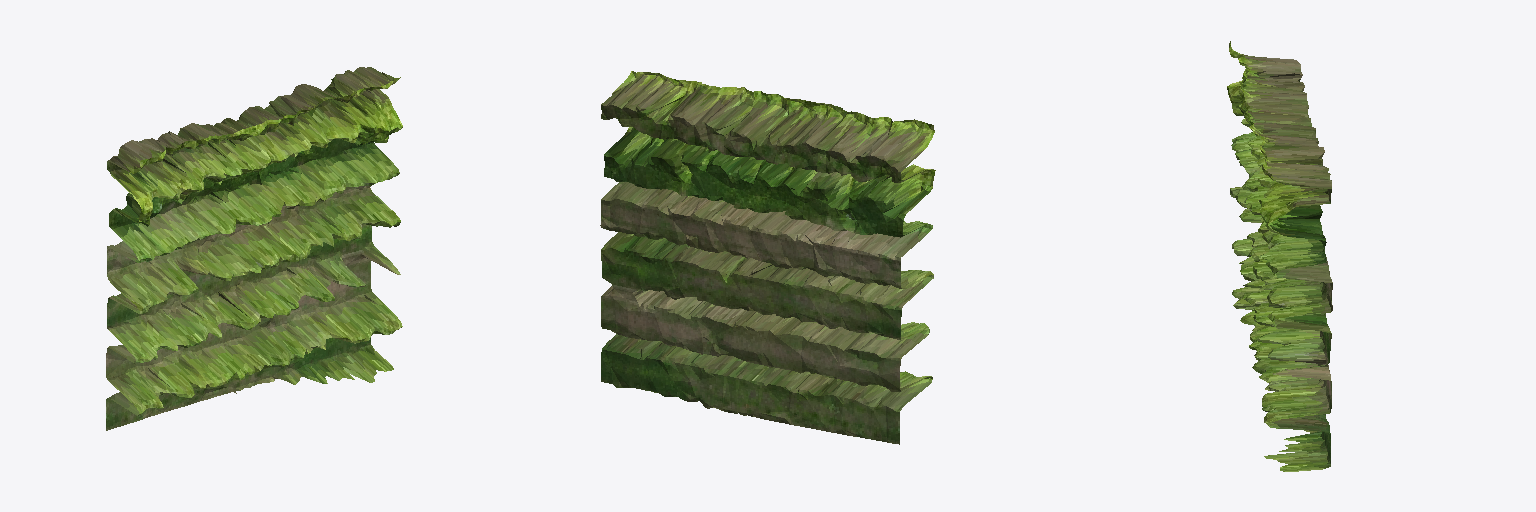
3 renders of one model, left to right at view 1: azimuth 30°, elevation 25°; view 2: azimuth 150°, elevation 25°; view 3: azimuth 270°, elevation 25°, orthographic.
Visible parts, largest first — view 1: grp1; view 2: grp1; view 3: grp1.
Part boxes in pixels (x1,y1,x2,y2): grp1: (106, 67, 402, 430); grp1: (600, 71, 935, 444); grp1: (1227, 41, 1332, 471).
Size of the model in its own units: 10 by 10 by 3.27.
Materials: 1 (1 with a texture image).